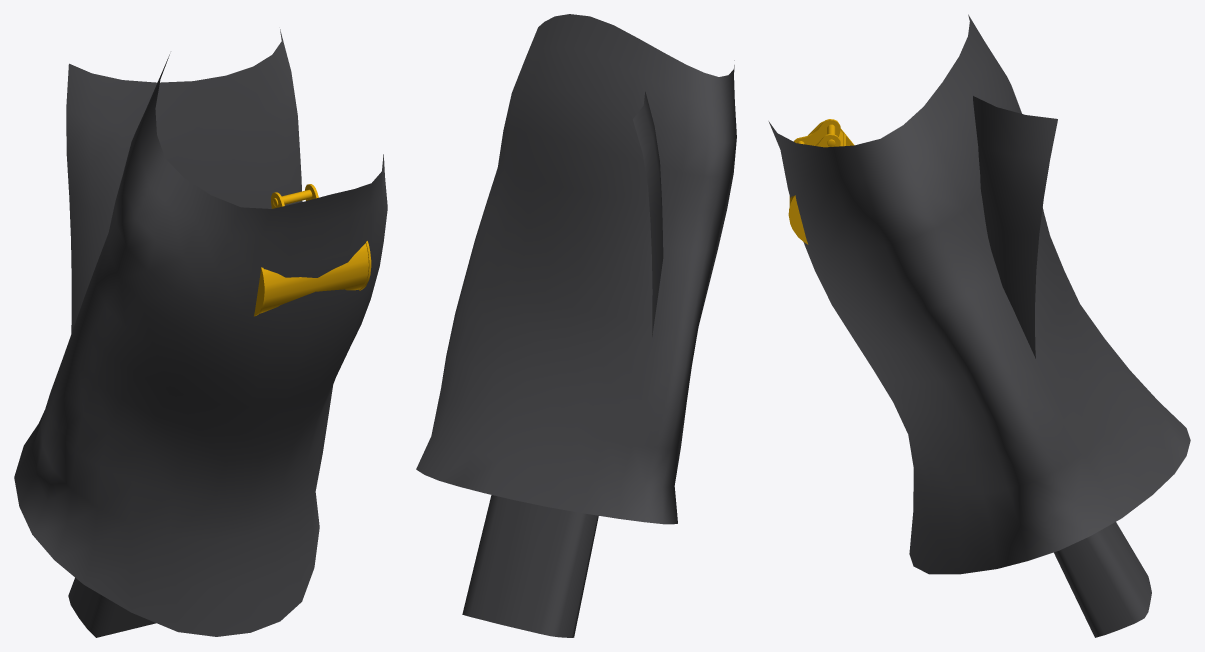
Rendered from jd50g-bucket.glb.
3 views of the same model, side by side, from view 1: azimuth 30°, elevation 25°; view 2: azimuth 150°, elevation 25°; view 3: azimuth 270°, elevation 25° (orthographic). The views are drawn at different scales.
Parts seen in each view (by area): view 1: smokeNorm_q, shovel_vis_q, grainNorm_q; view 2: smokeNorm_q, grainNorm_q; view 3: smokeNorm_q, grainNorm_q, shovel_vis_q.
Boxes of the visible parts, x1,y1,x2,y2 form: smokeNorm_q: [14, 29, 387, 636]; shovel_vis_q: [254, 184, 371, 316]; grainNorm_q: [68, 578, 155, 637]; smokeNorm_q: [416, 14, 736, 524]; grainNorm_q: [462, 495, 598, 637]; smokeNorm_q: [768, 14, 1190, 574]; grainNorm_q: [1054, 522, 1151, 637]; shovel_vis_q: [788, 119, 854, 244].
Bounding box in the file's own units: 1.62 × 3.79 × 2.46.
